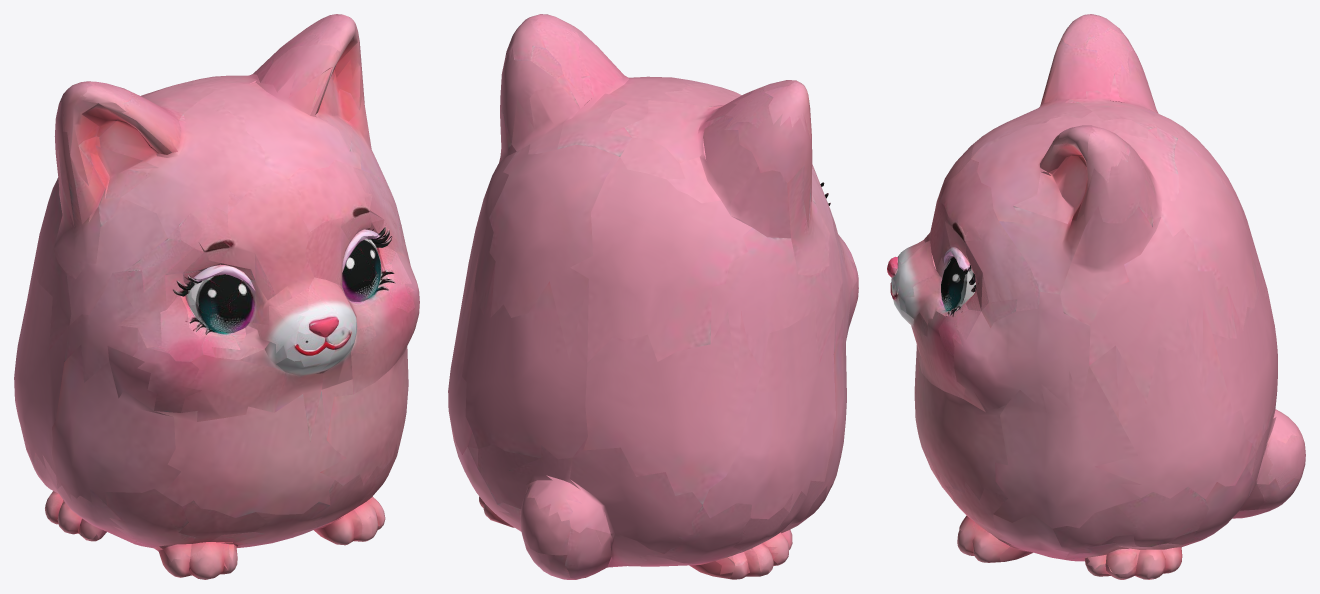
Rendered from addy_squishy.glb.
3 renders of one model, left to right at view 1: azimuth 30°, elevation 25°; view 2: azimuth 150°, elevation 25°; view 3: azimuth 270°, elevation 25°, orthographic. The views are drawn at different scales.
Bounding box in the file's own units: 1.46 × 1.9 × 1.63.
1 material, 1 textured.
